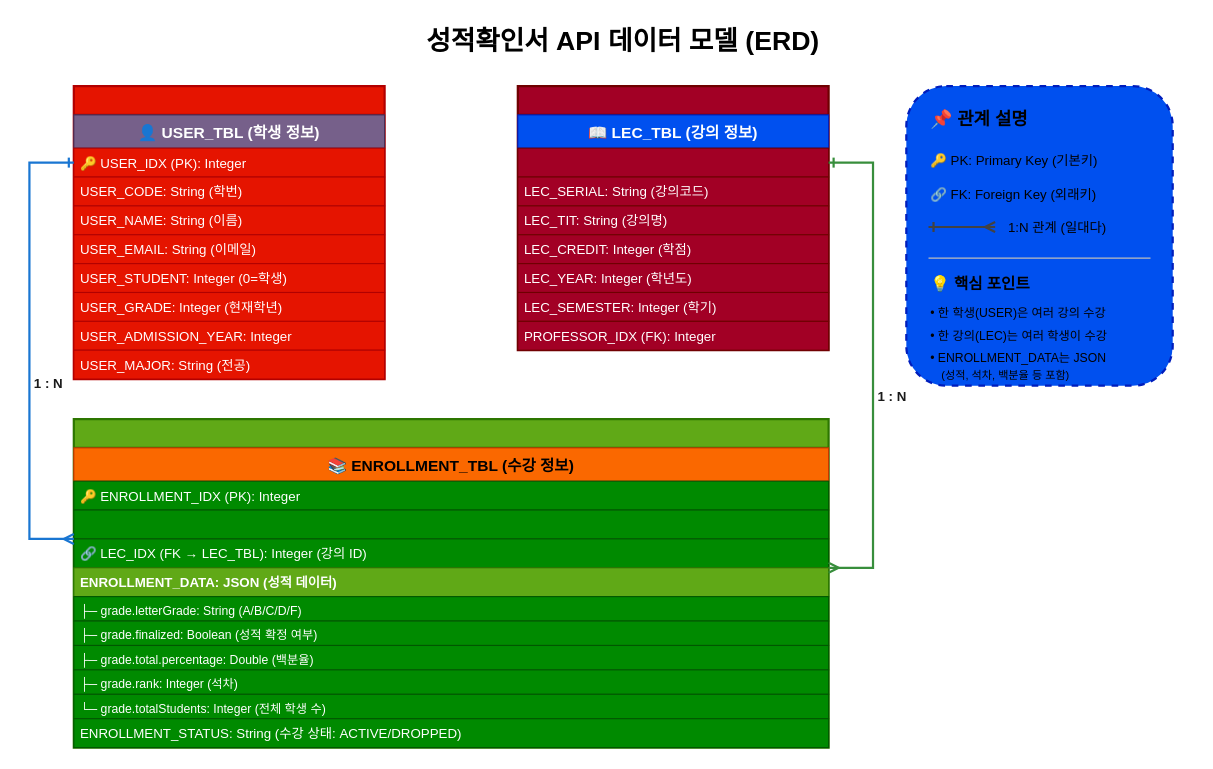
Image size: 1213x769. Some labels were removed from this diagram. Here are the shapes that lost their labels. From the top down, the centre of each, then its label:
At pixel 673 162: "🔑 LEC_IDX (PK): Integer".
At pixel 451 524: "🔗 USER_IDX (FK → USER_TBL): Integer (학생 ID)".
